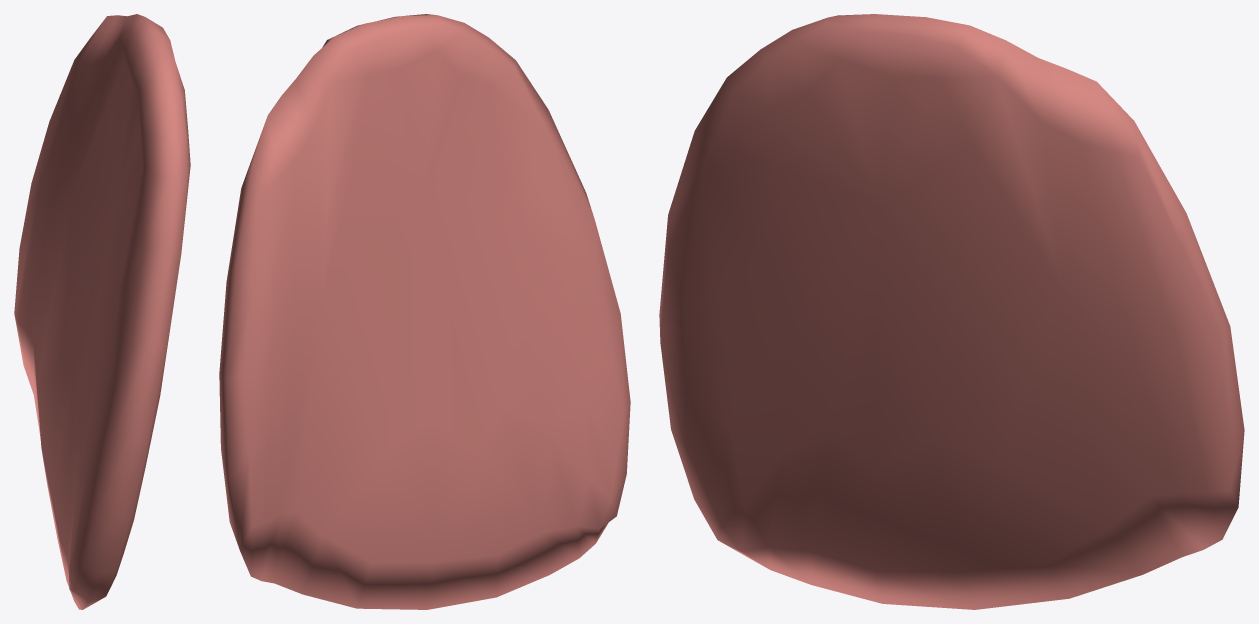
The picture shows the model from 3 angles, left to right: view 1: azimuth 30°, elevation 25°; view 2: azimuth 150°, elevation 25°; view 3: azimuth 270°, elevation 25°; orthographic projection. The views are drawn at different scales.
Visible parts, largest first — view 1: ZA_0cab28498540fdf8; view 2: ZA_0cab28498540fdf8; view 3: ZA_0cab28498540fdf8.
Part boxes in pixels (x1,y1,x2,y2): ZA_0cab28498540fdf8: (14, 14, 190, 609); ZA_0cab28498540fdf8: (219, 14, 630, 609); ZA_0cab28498540fdf8: (659, 14, 1244, 609).
Size of the model in its own units: 0.00209 by 0.0055 by 0.00448.
